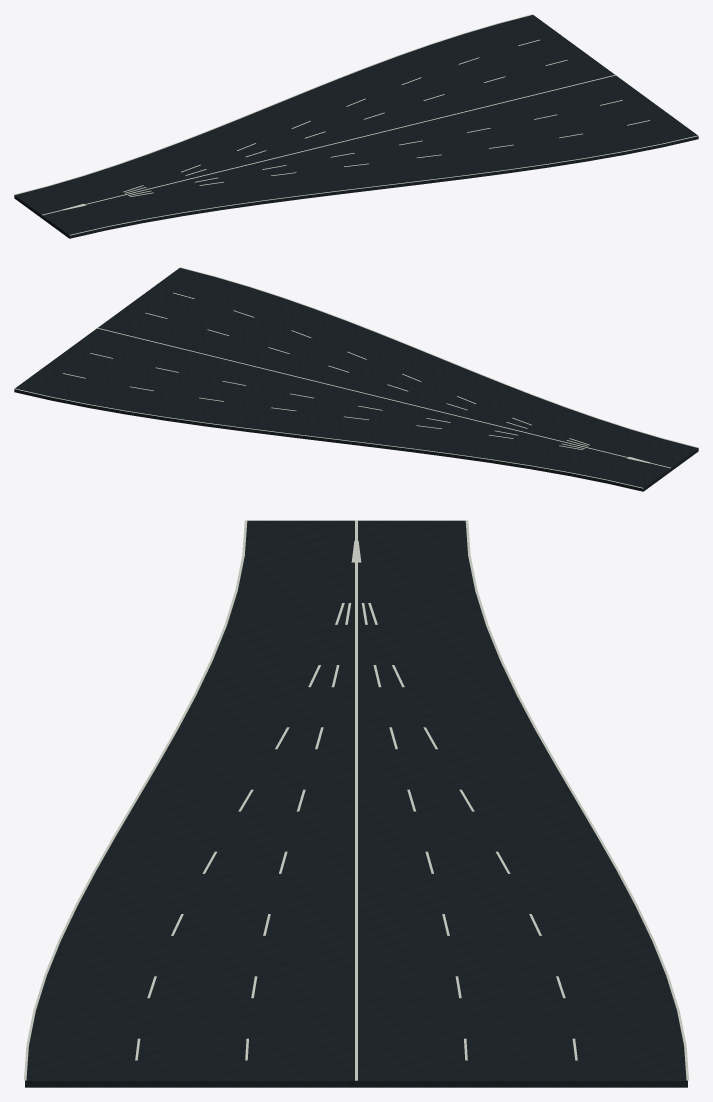
File: Transit_Road_Taper_2L_6L_36m.glb
The picture shows the model from 3 angles, top to bottom: view 1: azimuth 30°, elevation 25°; view 2: azimuth 150°, elevation 25°; view 3: azimuth 270°, elevation 25°; orthographic projection. The views are drawn at different scales.
Parts seen in each view (by area): view 1: Transit_Road_Taper_2L_6L_36m_Surface, Transit_Road_Taper_2L_6L_36m_MarkEdge-1, Transit_Road_Taper_2L_6L_36m_MarkCenter, Transit_Road_Taper_2L_6L_36m_MarkEdge1; view 2: Transit_Road_Taper_2L_6L_36m_Surface, Transit_Road_Taper_2L_6L_36m_MarkEdge1, Transit_Road_Taper_2L_6L_36m_MarkCenter, Transit_Road_Taper_2L_6L_36m_MarkEdge-1; view 3: Transit_Road_Taper_2L_6L_36m_Surface, Transit_Road_Taper_2L_6L_36m_MarkEdge-1, Transit_Road_Taper_2L_6L_36m_MarkEdge1, Transit_Road_Taper_2L_6L_36m_MarkCenter.
Boxes of the visible parts, box(x1,y1,x2,y2) form: Transit_Road_Taper_2L_6L_36m_Surface: box(14, 15, 698, 238); Transit_Road_Taper_2L_6L_36m_MarkEdge-1: box(69, 135, 698, 235); Transit_Road_Taper_2L_6L_36m_MarkCenter: box(42, 75, 615, 215); Transit_Road_Taper_2L_6L_36m_MarkEdge1: box(14, 14, 532, 194); Transit_Road_Taper_2L_6L_36m_Surface: box(14, 268, 698, 491); Transit_Road_Taper_2L_6L_36m_MarkEdge1: box(14, 388, 643, 488); Transit_Road_Taper_2L_6L_36m_MarkCenter: box(97, 328, 670, 468); Transit_Road_Taper_2L_6L_36m_MarkEdge-1: box(180, 267, 698, 447); Transit_Road_Taper_2L_6L_36m_Surface: box(25, 520, 687, 1087); Transit_Road_Taper_2L_6L_36m_MarkEdge-1: box(24, 520, 247, 1080); Transit_Road_Taper_2L_6L_36m_MarkEdge1: box(465, 520, 688, 1080); Transit_Road_Taper_2L_6L_36m_MarkCenter: box(355, 520, 357, 1080).
Bounding box in the file's own units: 36 × 0.212 × 18.07.
2 materials, 1 textured.
